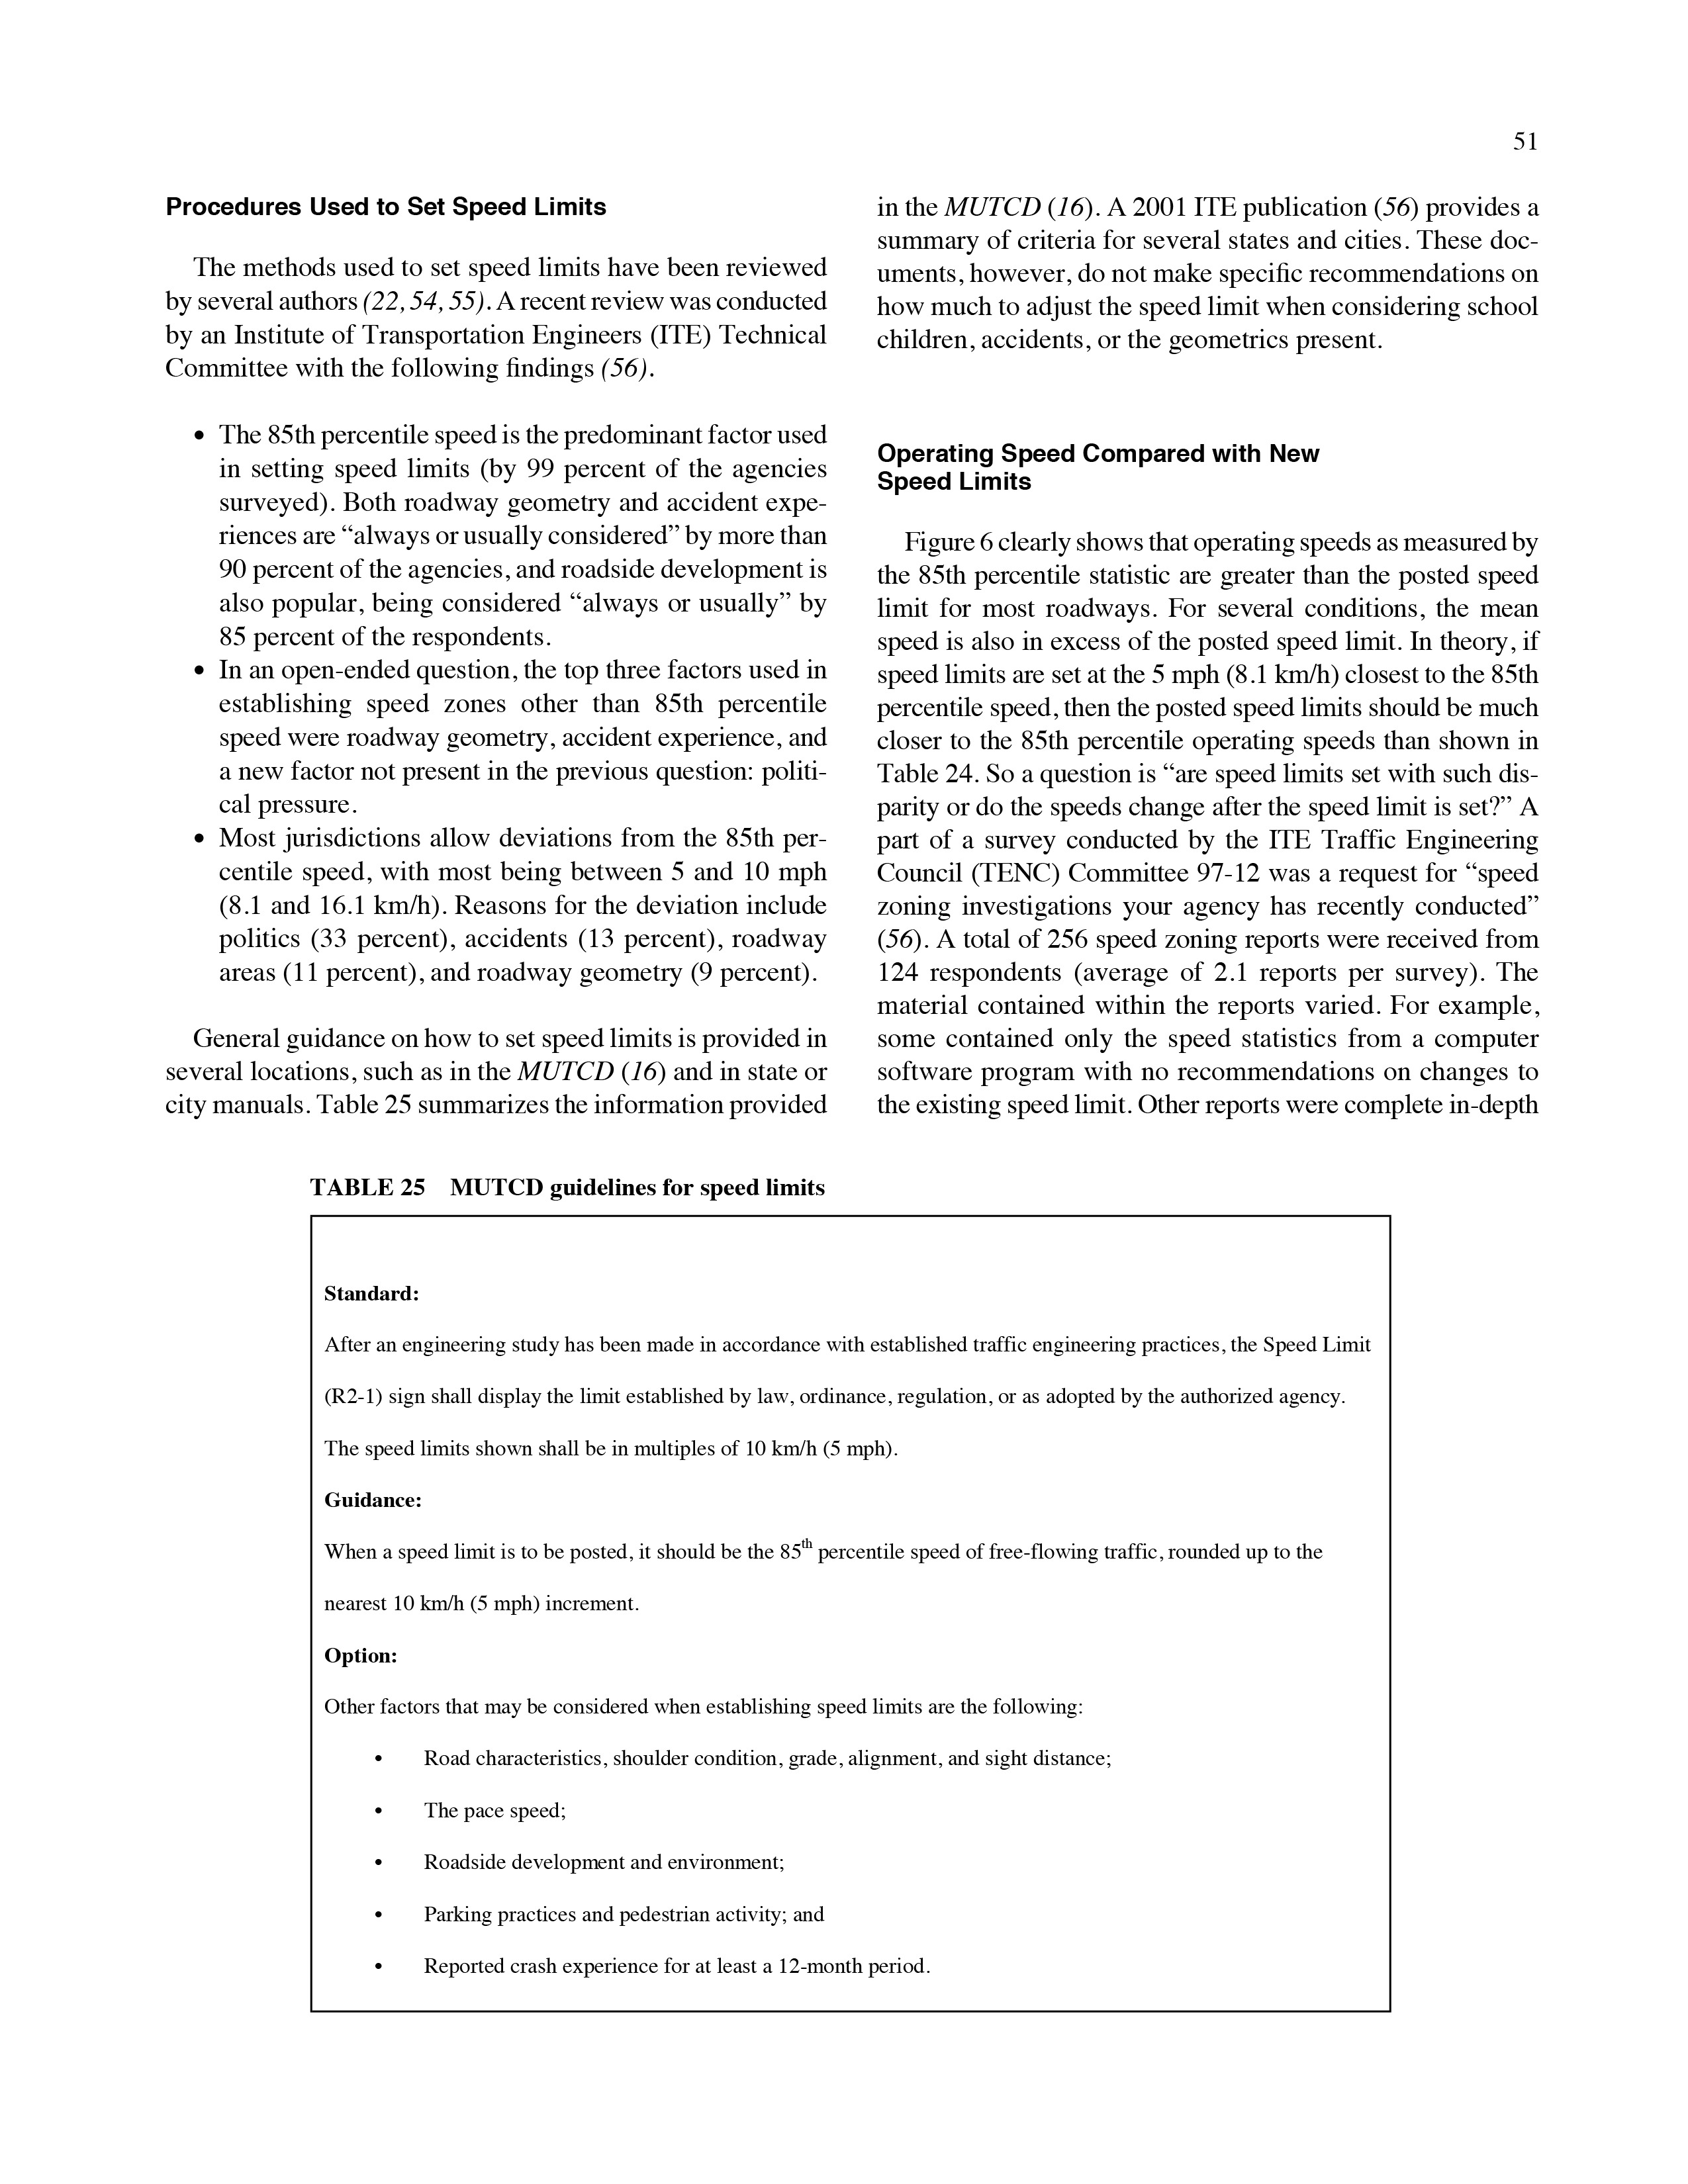caption: (294, 1156, 846, 1236)
list: (191, 397, 842, 1005), (356, 1735, 1129, 1993)
section: (865, 409, 1351, 509), (165, 172, 628, 241)
text: (876, 525, 1546, 1140), (317, 1278, 1381, 1471), (862, 188, 1557, 360), (149, 245, 823, 397), (314, 1480, 1332, 1569), (156, 1025, 846, 1149), (310, 1686, 1106, 1714), (310, 1579, 635, 1615), (298, 1636, 410, 1661)
